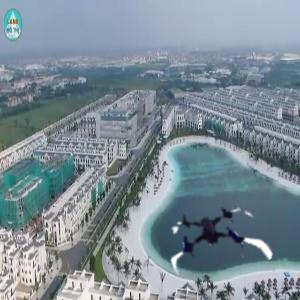drone: (162, 191, 264, 293)
